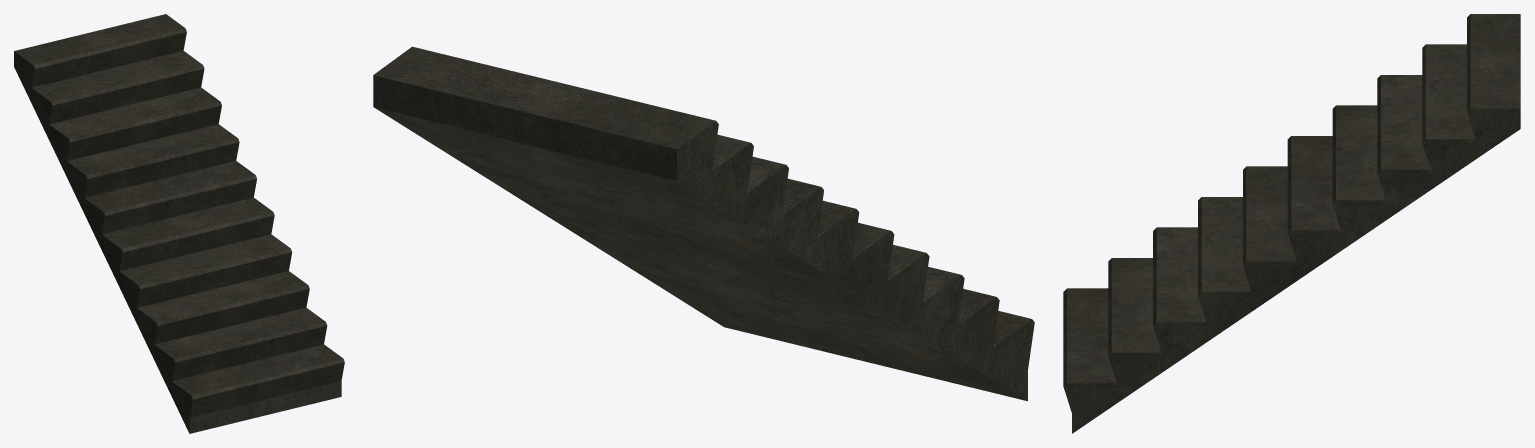
File: stairs_5_concrete.obj
The picture shows the model from 3 angles, left to right: view 1: azimuth 30°, elevation 25°; view 2: azimuth 150°, elevation 25°; view 3: azimuth 270°, elevation 25°; orthographic projection. The views are drawn at different scales.
Parts seen in each view (by area): view 1: stairs_5_concrete; view 2: stairs_5_concrete; view 3: stairs_5_concrete.
Boxes of the visible parts, bbox=[...] form: stairs_5_concrete: bbox=[14, 14, 344, 433]; stairs_5_concrete: bbox=[373, 46, 1034, 401]; stairs_5_concrete: bbox=[1063, 14, 1520, 433].
Size of the model in its own units: 2 by 3.2 by 4.08.
